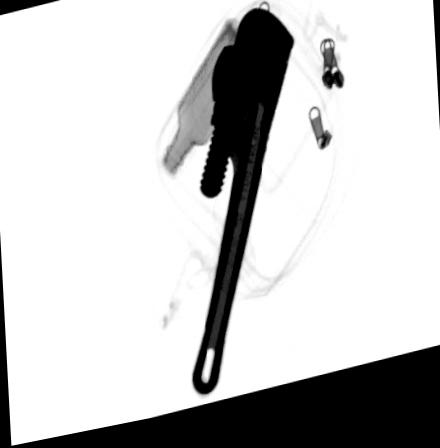Wrench: (189, 17, 296, 406)
